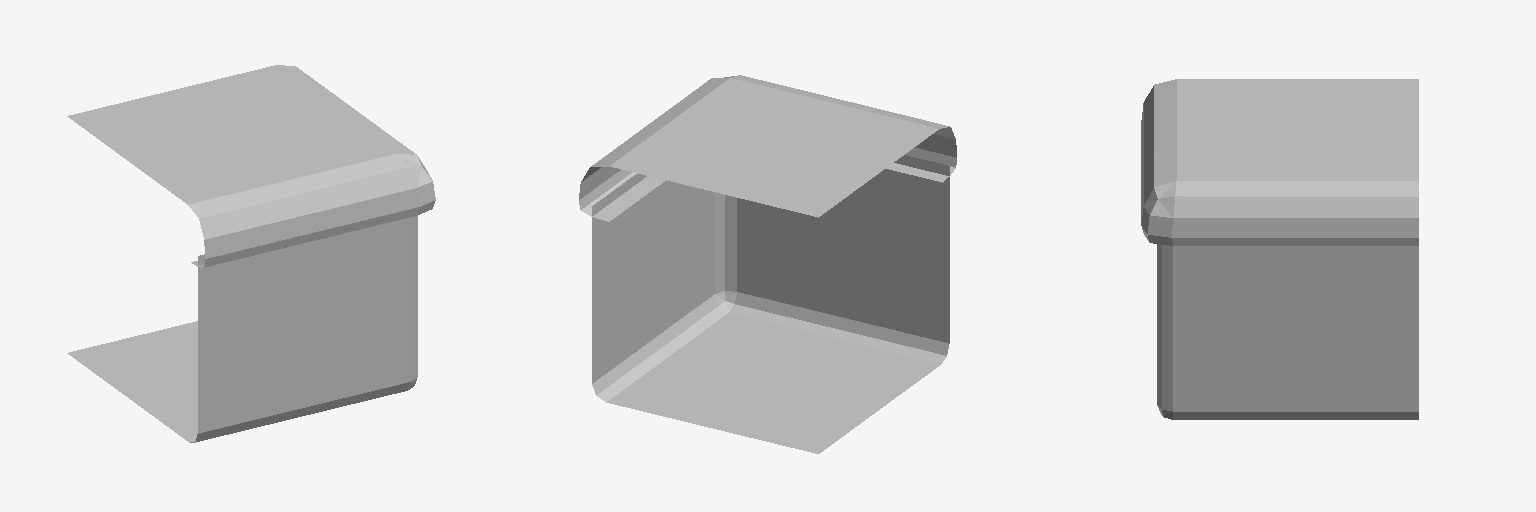
Rendered from cube_grass_corner_bottomRight.obj.
The picture shows the model from 3 angles: view 1: azimuth 30°, elevation 25°; view 2: azimuth 150°, elevation 25°; view 3: azimuth 270°, elevation 25°; orthographic projection.
Parts seen in each view (by area): view 1: cube_grass_corner.002; view 2: cube_grass_corner.002; view 3: cube_grass_corner.002.
Boxes of the visible parts, <box> form: cube_grass_corner.002: <box>67,65,435,442</box>; cube_grass_corner.002: <box>579,75,956,453</box>; cube_grass_corner.002: <box>1141,79,1418,419</box>.
Bounding box in the file's own units: 1.06 × 0.998 × 1.06.